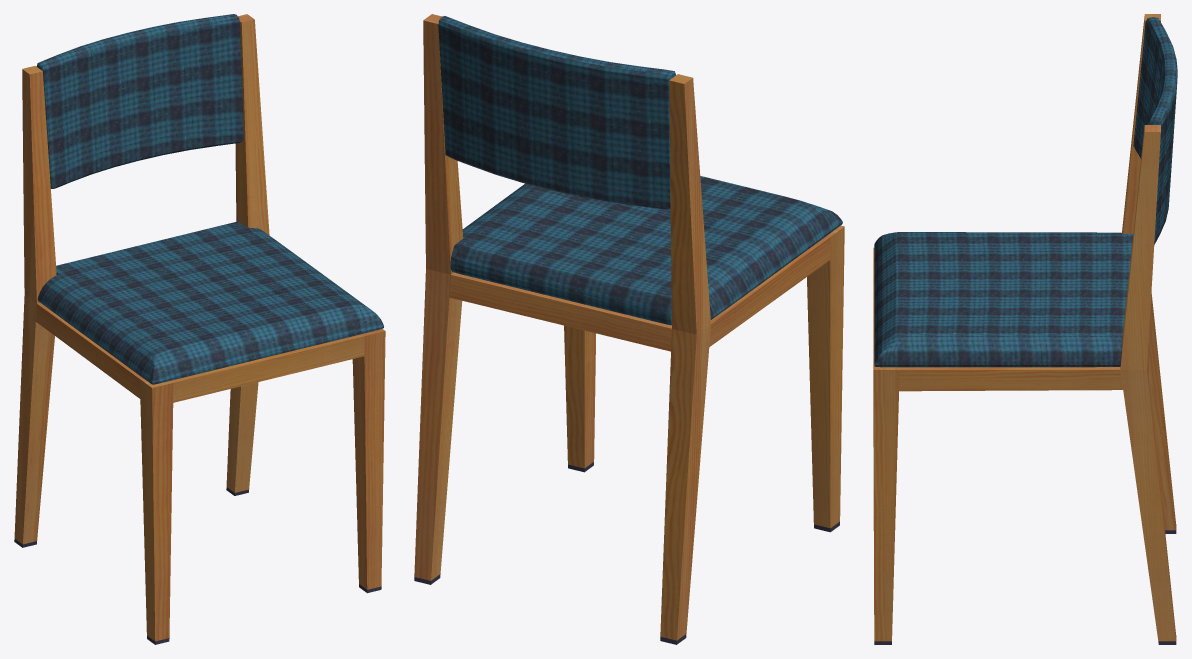
Rendered from plaidChair.obj.
The picture shows the model from 3 angles, left to right: view 1: azimuth 30°, elevation 25°; view 2: azimuth 150°, elevation 25°; view 3: azimuth 270°, elevation 25°; orthographic projection. The views are drawn at different scales.
Parts seen in each view (by area): view 1: Cube.001, Cube; view 2: Cube.001, Cube; view 3: Cube.001, Cube.
Part boxes in pixels (x1,y1,x2,y2): Cube.001: (36, 14, 383, 384); Cube: (14, 14, 385, 644); Cube.001: (438, 16, 842, 325); Cube: (414, 14, 844, 644); Cube.001: (874, 17, 1177, 367); Cube: (873, 14, 1176, 644).
Bounding box in the file's own units: 40.49 × 79.98 × 42.65.
